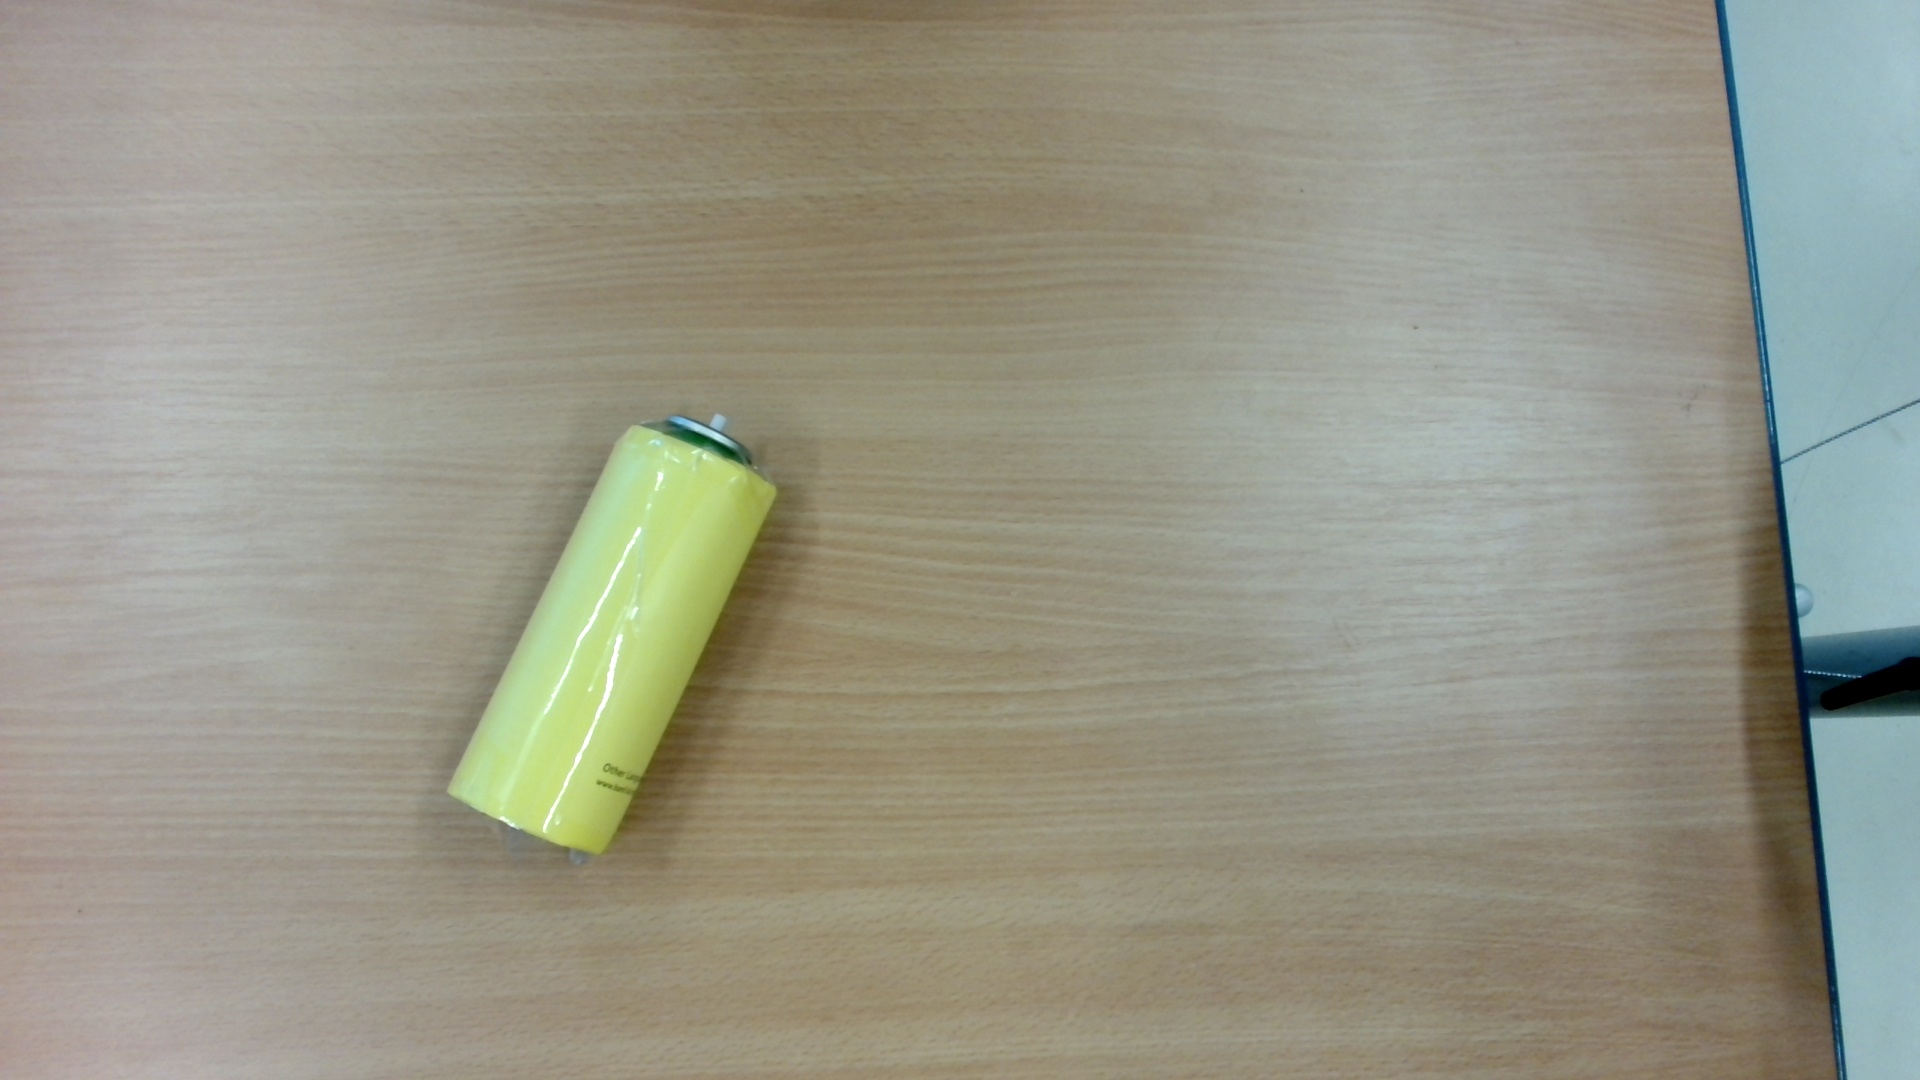Cylinder: (431, 397, 798, 887)
